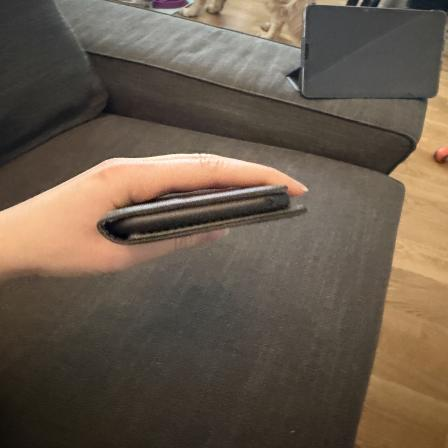phone: (92, 185, 334, 245)
